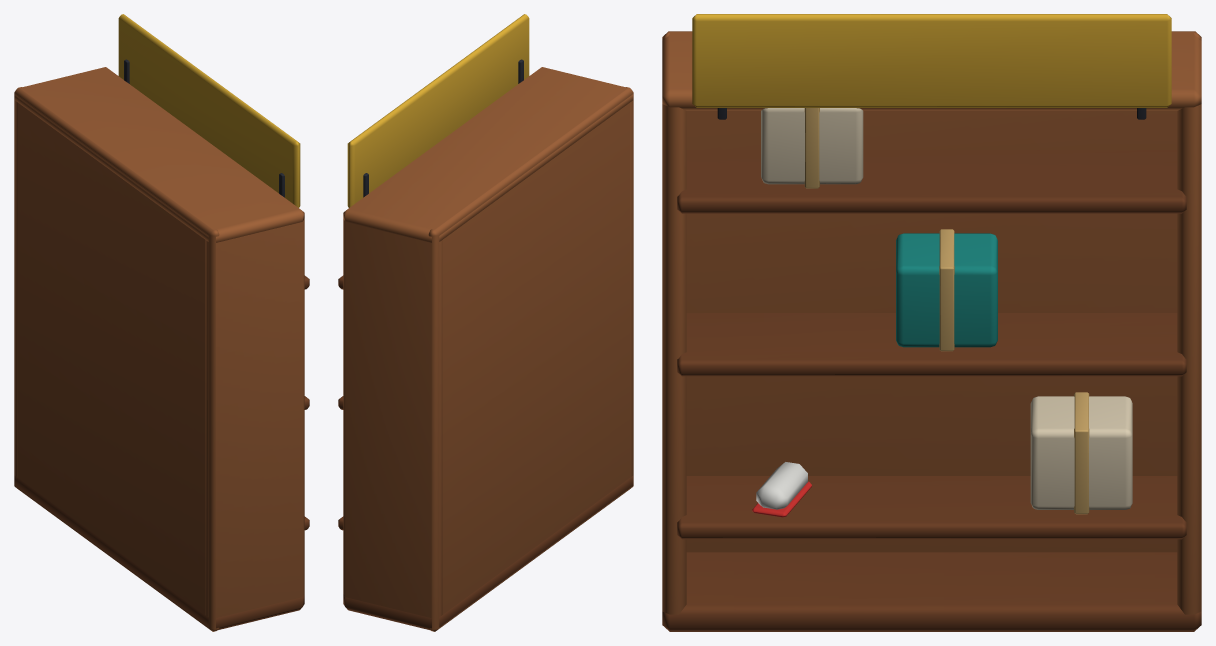
Rendered from SM_Prop_LostAndFoundShelf.fbx.
3 renders of one model, left to right at view 1: azimuth 30°, elevation 25°; view 2: azimuth 150°, elevation 25°; view 3: azimuth 270°, elevation 25°, orthographic. The views are drawn at different scales.
Visible parts, largest first — view 1: SM_Prop_LostAndFoundShelf; view 2: SM_Prop_LostAndFoundShelf; view 3: SM_Prop_LostAndFoundShelf.
Part boxes in pixels (left/top/right/bottom): SM_Prop_LostAndFoundShelf: left=14, top=14, right=309, bottom=631; SM_Prop_LostAndFoundShelf: left=338, top=14, right=633, bottom=631; SM_Prop_LostAndFoundShelf: left=662, top=14, right=1201, bottom=631.
Size of the model in its own units: 55.07 by 229 by 180.
